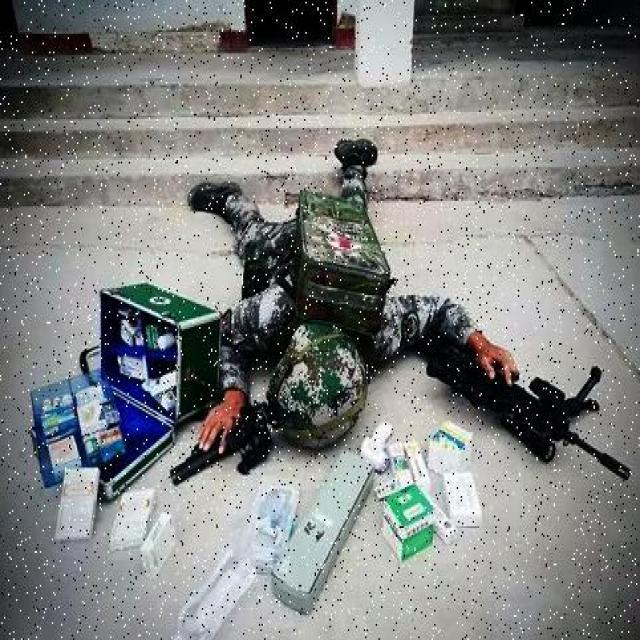fall: (203, 176, 506, 432)
